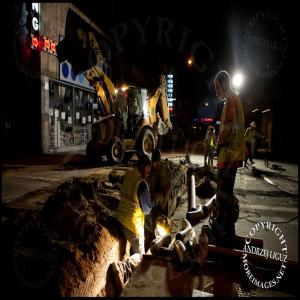none: (216, 71, 233, 102), (137, 154, 152, 180), (152, 148, 163, 172), (210, 126, 215, 136)
white: (252, 123, 257, 132)
